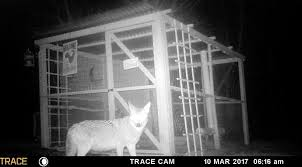chicken: (85, 62, 99, 87)
coyote: (56, 99, 152, 151)
